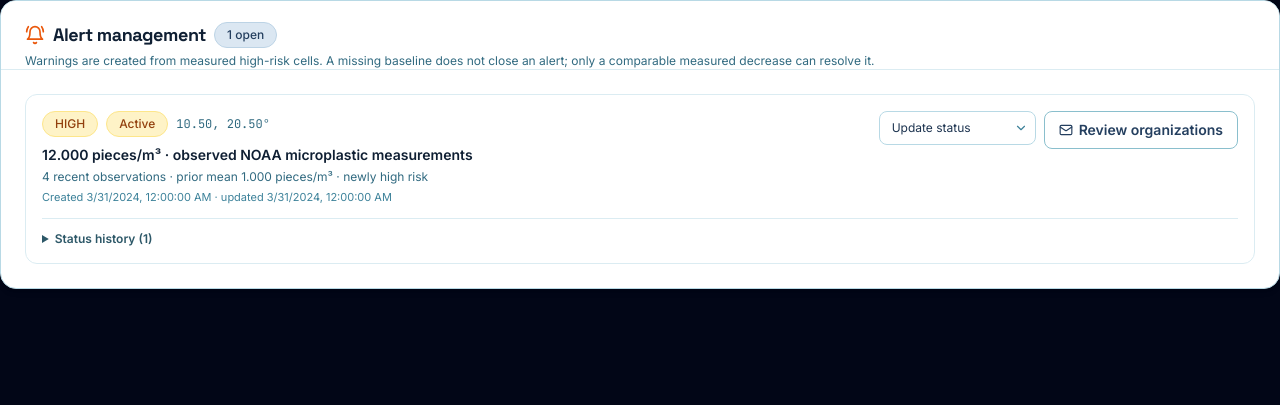
AlertManagementPanel › updates alert status and explicitly previews then approves organization email
The image size is (1280, 405).
Later steps or results of the test are not shown.
Select "Acknowledged" in the dropdown named "Update status": (957, 128) 879,111 -> 1036,145
Click the button "Review organizations": (1141, 130) 1044,111 -> 1238,149
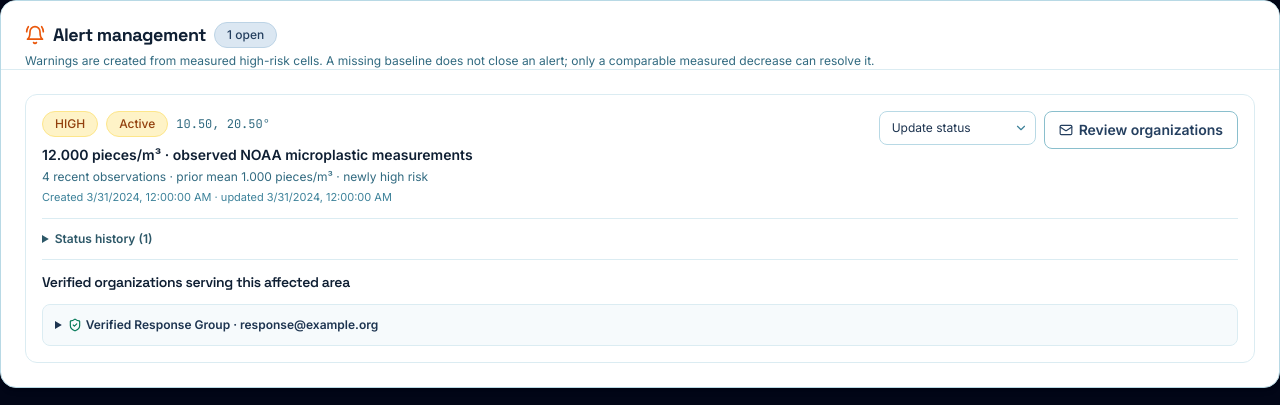
Expected: the heading "Verified Response Group · response@example.org" is shown, 68,316 -> 378,332
